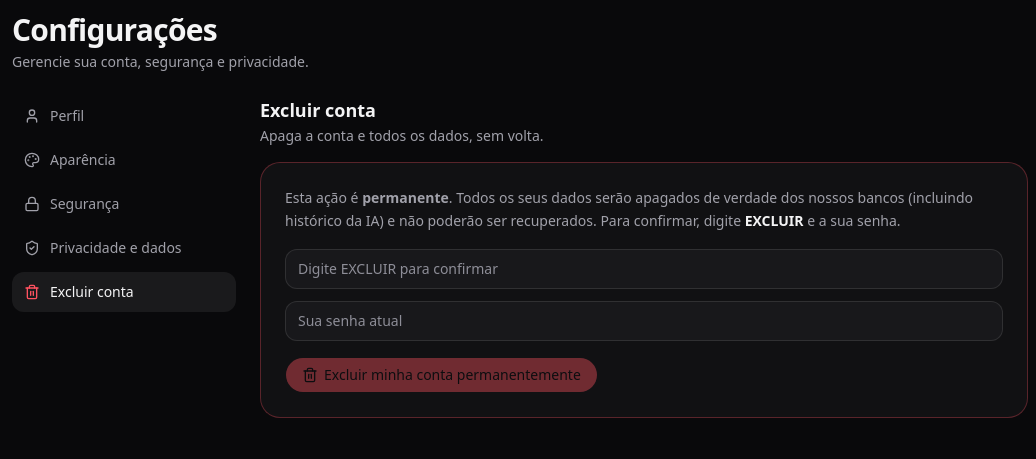
Settings › mostra uma mensagem específica quando a senha está incorreta
The image size is (1036, 459).
Type "EXCLUIR" into the field with placeholder "Digite EXCLUIR para confirmar".
click(644, 268); type("EXCLUIR")  # box 285,248 -> 1003,288
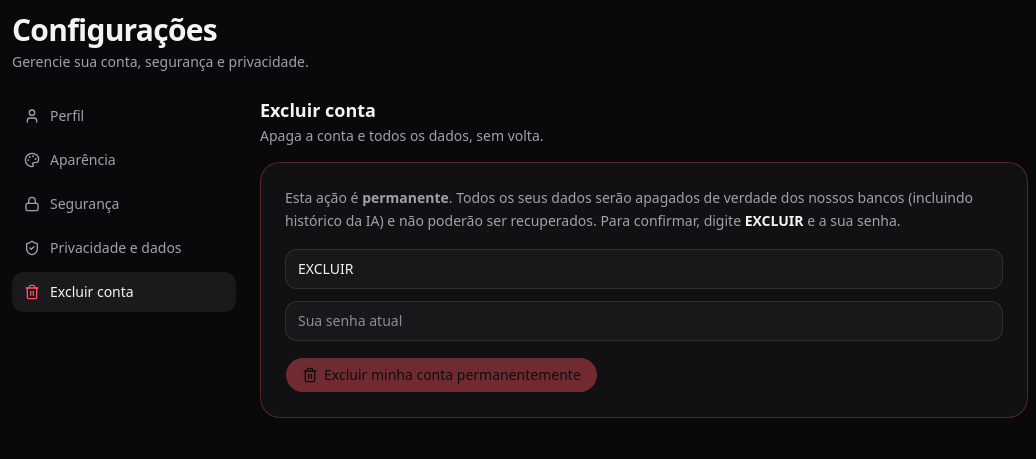
Type "senhaerrada1" into the password field with placeholder "Sua senha atual".
click(644, 320); type("senhaerrada1")  # box 285,300 -> 1003,340
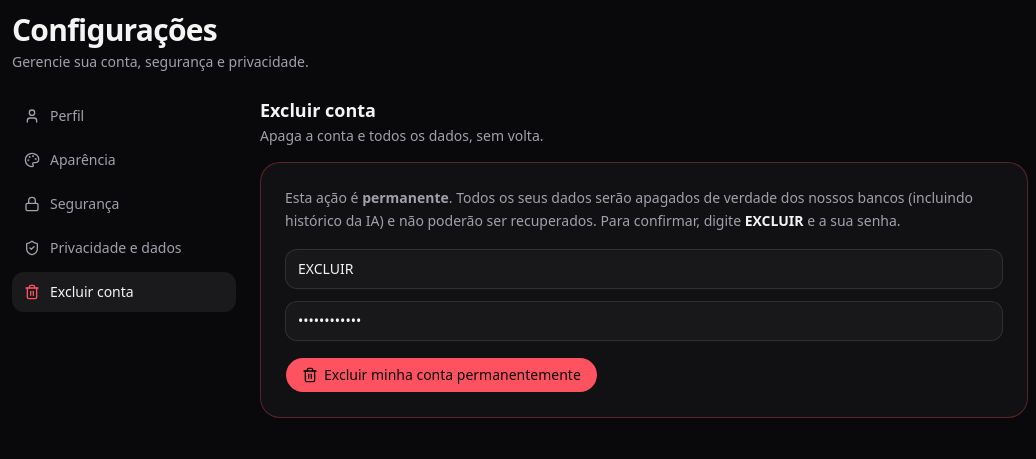
Click the button "Excluir minha conta permanentemente".
click(441, 374)  # box 285,356 -> 598,392
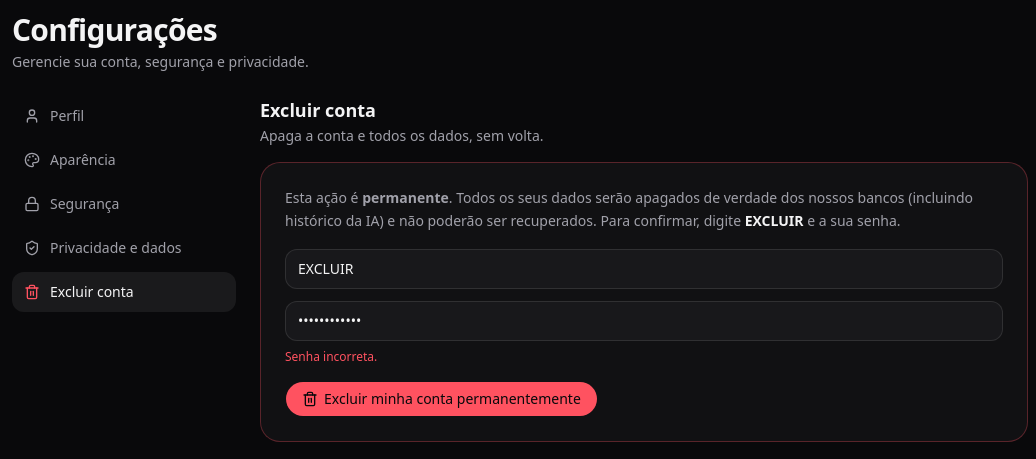
Expected: the text "Senha incorreta." is shown, 285,348 -> 377,364
